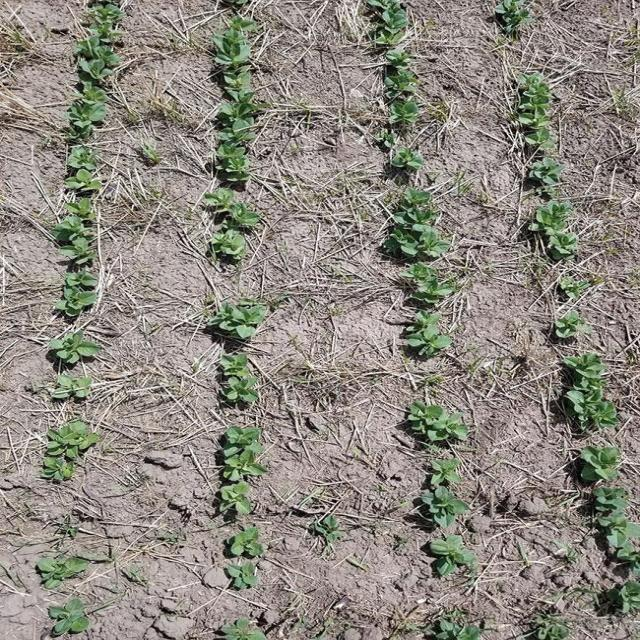row: (415, 0, 629, 640), (256, 2, 433, 640), (90, 0, 218, 640), (541, 2, 640, 521)
